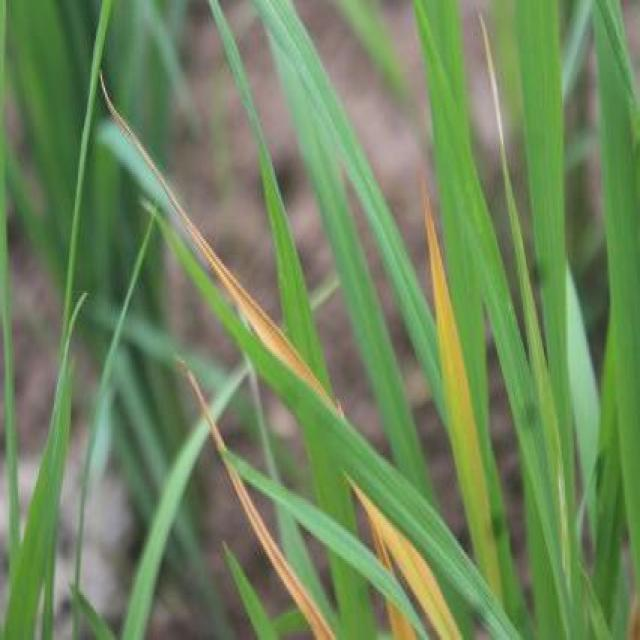Tungro: (126, 93, 322, 379), (175, 349, 328, 640), (346, 464, 486, 640), (404, 159, 478, 427)
